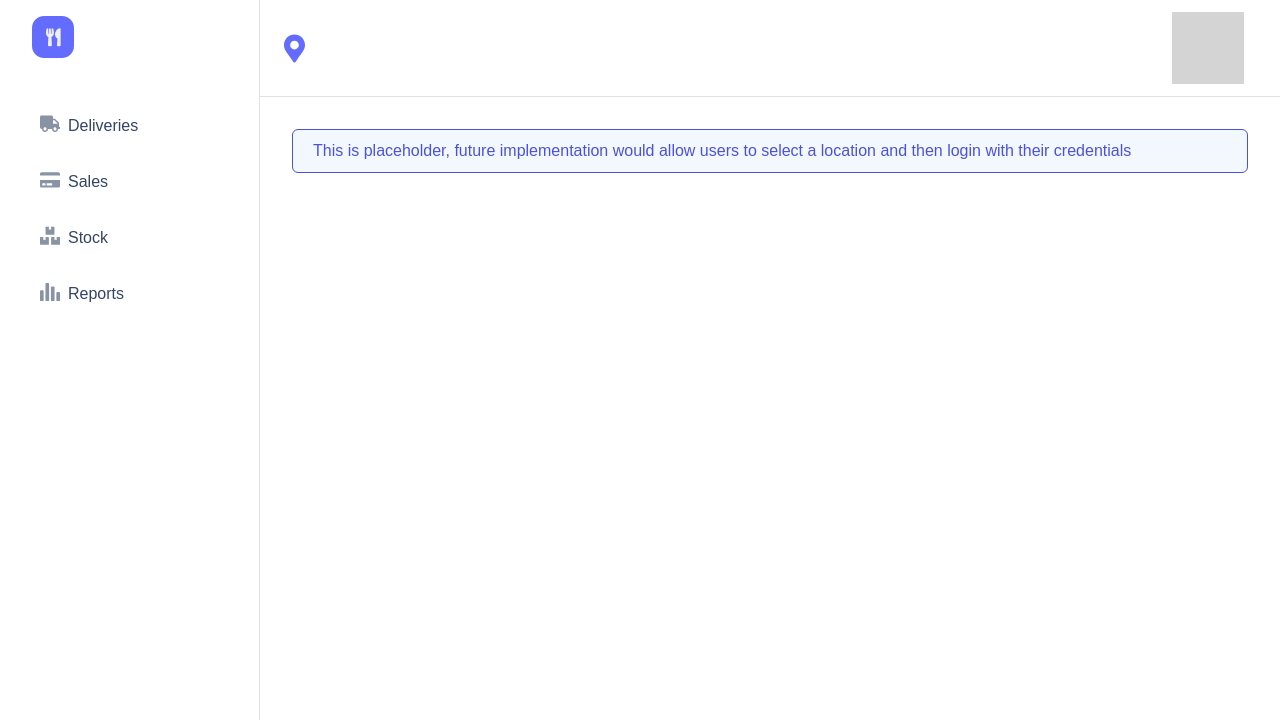
Scenario: App Navigation and Routing › navigates to Sales page
The width and height of the screenshot is (1280, 720).
Click the link with test id "nav-sales".
click(74, 180)  # box left=40, top=170, right=108, bottom=190
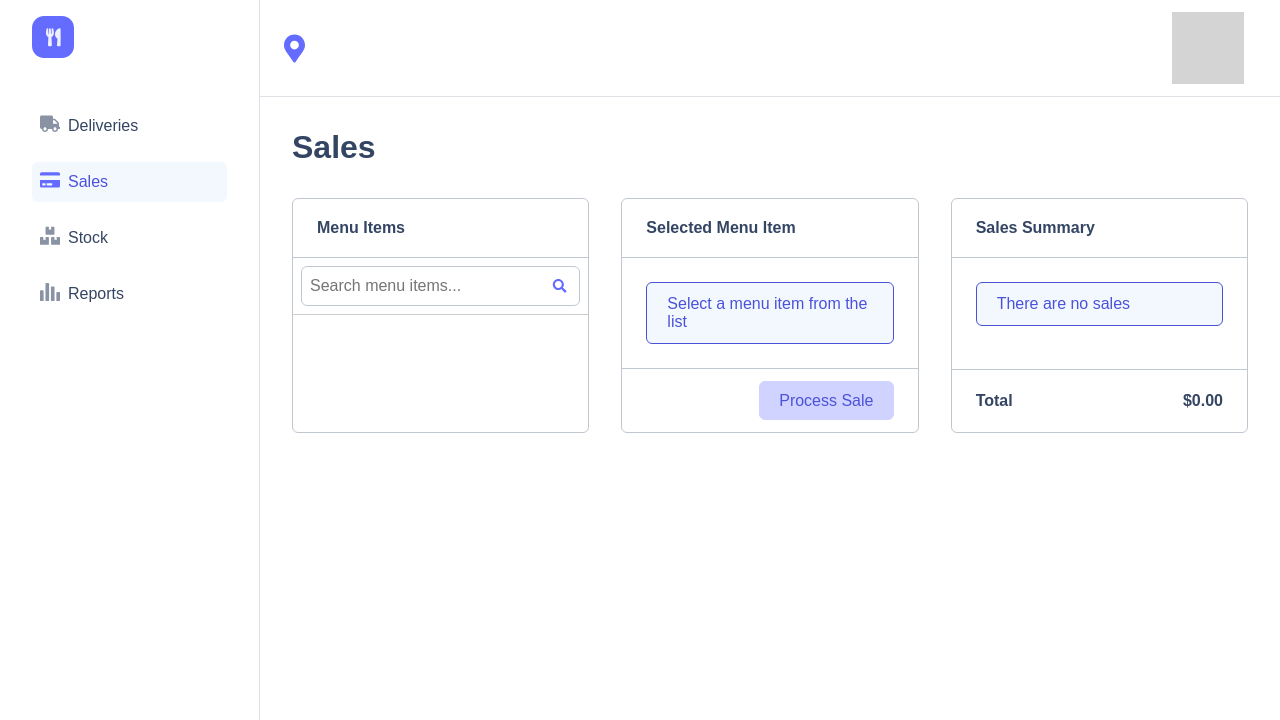
Expected: the element with test id "page-sales" is shown, left=260, top=129, right=1279, bottom=433
